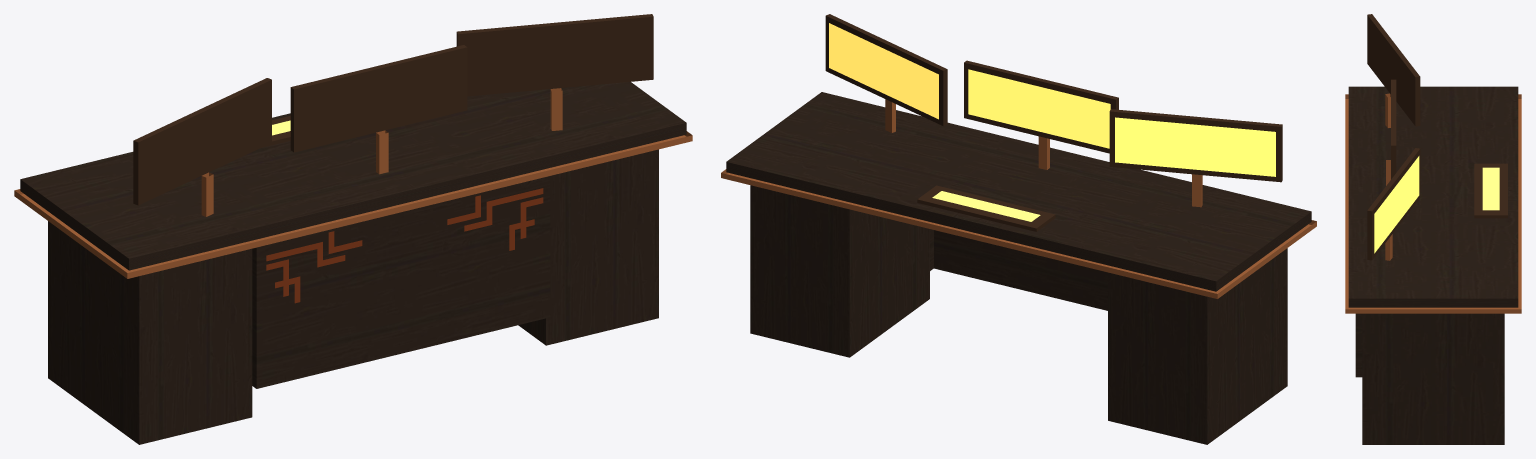
File: workstation.glb
3 renders of one model, left to right at view 1: azimuth 30°, elevation 25°; view 2: azimuth 150°, elevation 25°; view 3: azimuth 270°, elevation 25°, orthographic. The views are drawn at different scales.
Visible parts, largest first — view 1: workstation; view 2: workstation; view 3: workstation.
Part boxes in pixels (bbox=[...]): workstation: bbox=[14, 14, 692, 444]; workstation: bbox=[721, 14, 1316, 444]; workstation: bbox=[1345, 14, 1521, 444].
Size of the model in its own units: 3 by 1.52 by 1.04.
Materials: 5 (1 with a texture image).
